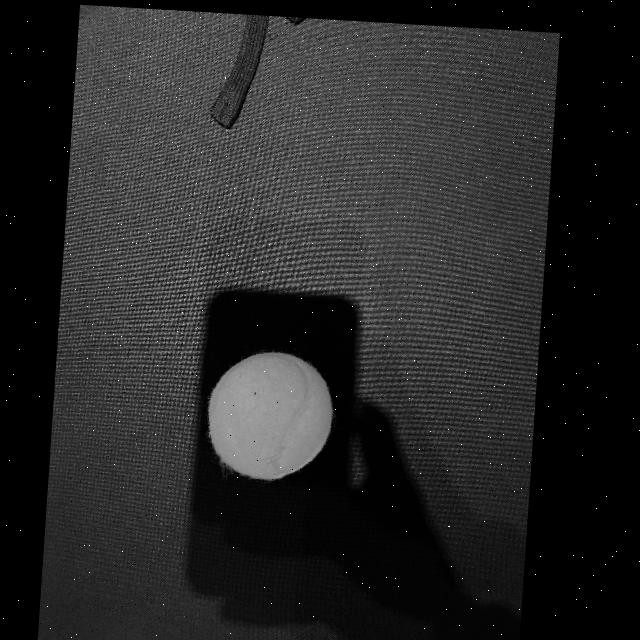Tennisball: (208, 352, 333, 481)
